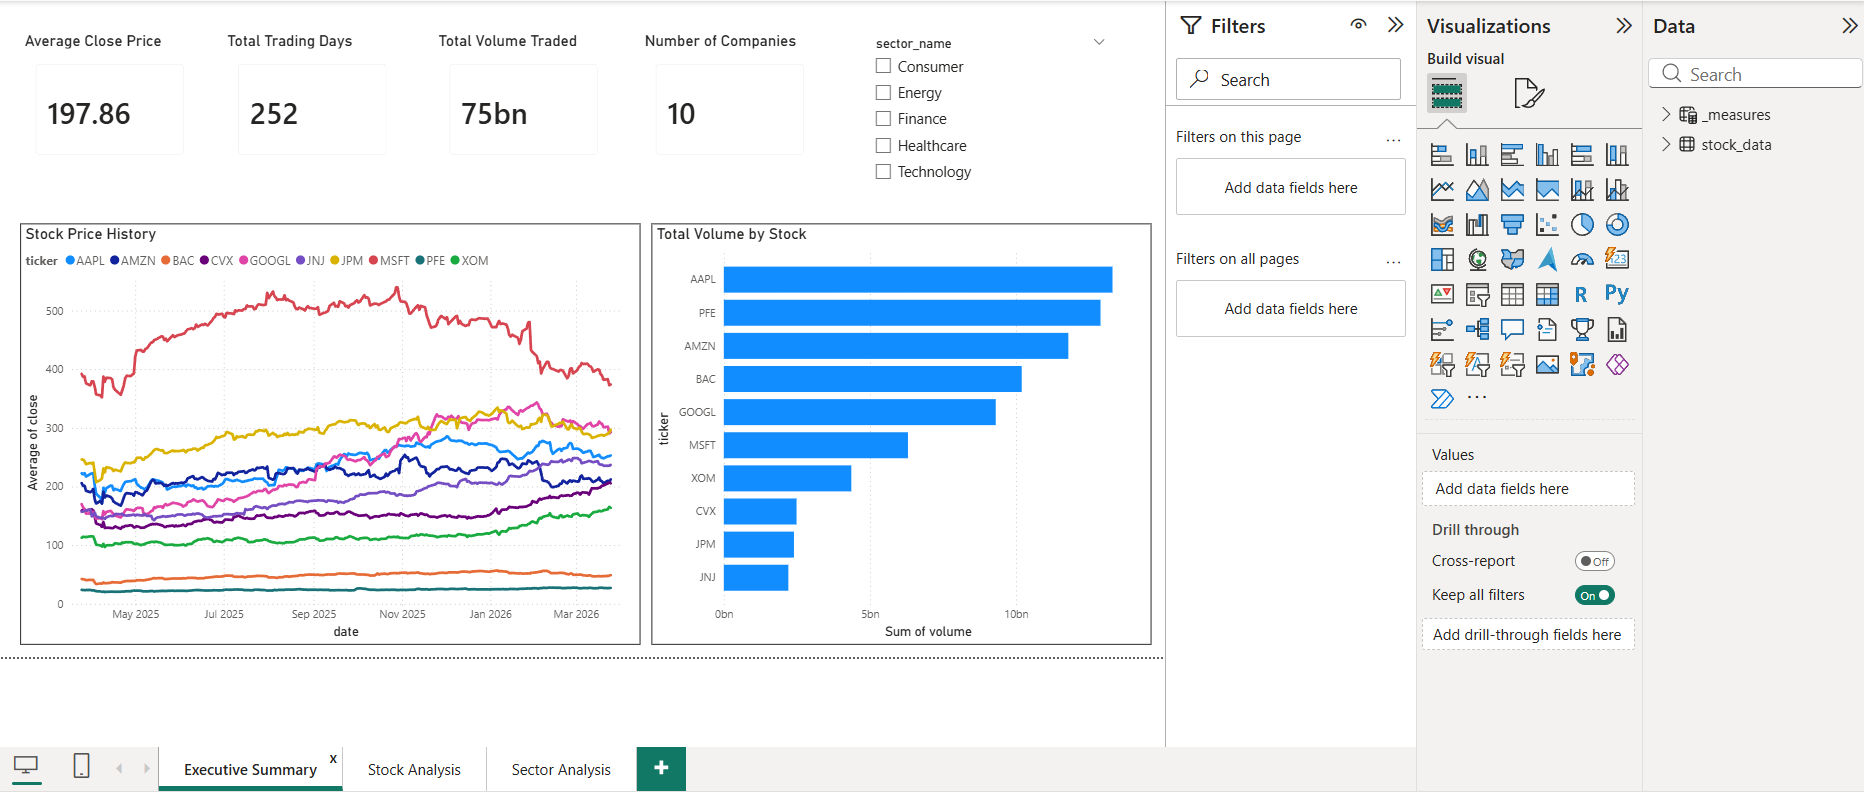

This screenshot's page, from the dashboard's own definition file:
{"tool":"powerbi","page":{"name":"Executive Summary","canvas":[1280,720],"ordinal":0},"visuals":[{"type":"cardVisual","title":"Total Trading Days","fields":{"Data":["Count(stock_data.date)"]},"box":[245.6,32.9,197.6,153.7],"z":0},{"type":"cardVisual","title":"Average Close Price","fields":{"Data":["Avg(stock_data.close)"]},"box":[23.3,32.9,197.6,153.7],"z":1},{"type":"cardVisual","title":"Total Volume Traded","fields":{"Data":["Sum(stock_data.volume)"]},"box":[477.5,32.9,197.6,153.7],"z":2},{"type":"cardVisual","title":"Number of Companies","fields":{"Data":["Count(stock_data.ticker)"]},"box":[703.9,32.9,197.6,153.7],"z":3},{"type":"lineChart","title":"Stock Price History","fields":{"Category":["stock_data.date"],"Y":["Avg(stock_data.close)"],"Series":["stock_data.ticker"]},"box":[23.3,244.3,680.6,462.4],"z":4},{"type":"clusteredBarChart","title":"Total Volume by Stock","fields":{"Category":["stock_data.ticker"],"Y":["Sum(stock_data.volume)"]},"box":[716.3,244.3,548.9,462.4],"z":5},{"type":"slicer","fields":{"Values":["stock_data.sector_name"]},"box":[949.6,32.9,277.2,181.1],"z":6}]}

Visuals, with their boxes on the page's 1280x720 design canvas (x1, y1, x2, y2). These are canvas units, not pixel positions in the 1864x792 screenshot, which may show the page scaled, cropped or inside an application window:
"Total Trading Days" cardVisual: (left=246, top=33, right=443, bottom=187)
"Average Close Price" cardVisual: (left=23, top=33, right=221, bottom=187)
"Total Volume Traded" cardVisual: (left=478, top=33, right=675, bottom=187)
"Number of Companies" cardVisual: (left=704, top=33, right=902, bottom=187)
"Stock Price History" lineChart: (left=23, top=244, right=704, bottom=707)
"Total Volume by Stock" clusteredBarChart: (left=716, top=244, right=1265, bottom=707)
slicer - stock_data.sector_name: (left=950, top=33, right=1227, bottom=214)
